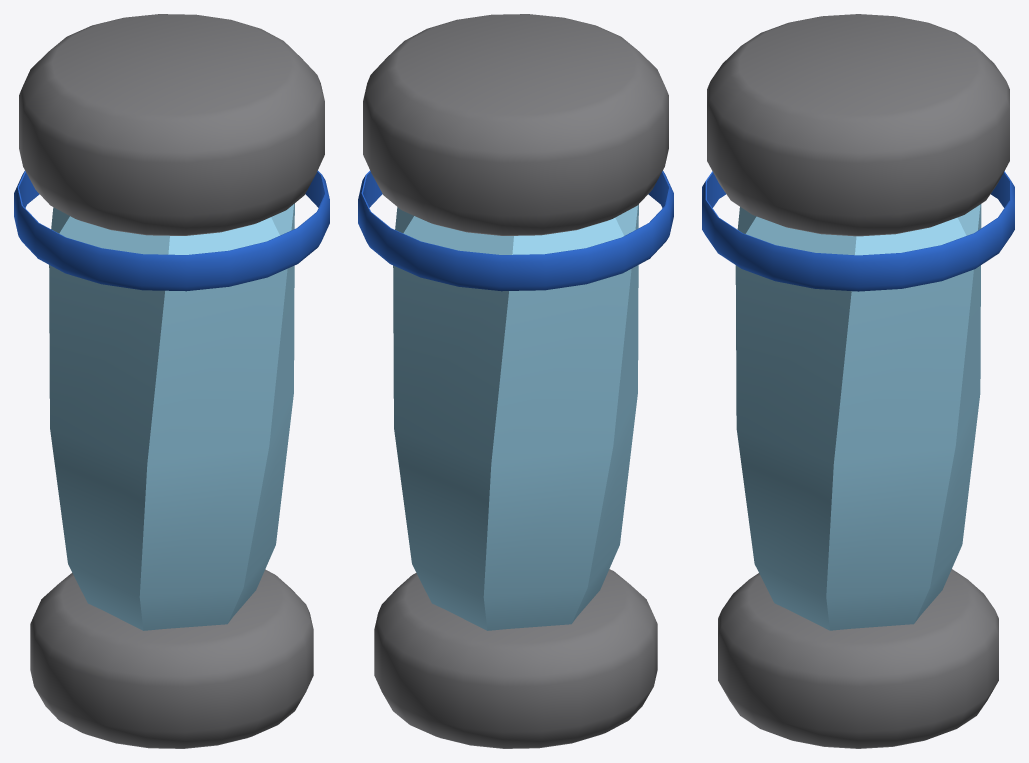
The model's file is Kit_Limb_LeagueCrystal_S.glb.
The picture shows the model from 3 angles, left to right: view 1: azimuth 30°, elevation 25°; view 2: azimuth 150°, elevation 25°; view 3: azimuth 270°, elevation 25°; orthographic projection.
Visible parts, largest first — view 1: Kit_Limb_LeagueCrystal_S; view 2: Kit_Limb_LeagueCrystal_S; view 3: Kit_Limb_LeagueCrystal_S.
Boxes of the visible parts, x1=… form: Kit_Limb_LeagueCrystal_S: x1=14, y1=14, x2=329, y2=748; Kit_Limb_LeagueCrystal_S: x1=358, y1=14, x2=673, y2=748; Kit_Limb_LeagueCrystal_S: x1=702, y1=14, x2=1014, y2=748.
Bounding box in the file's own units: 0.1137 × 0.2512 × 0.1125.
